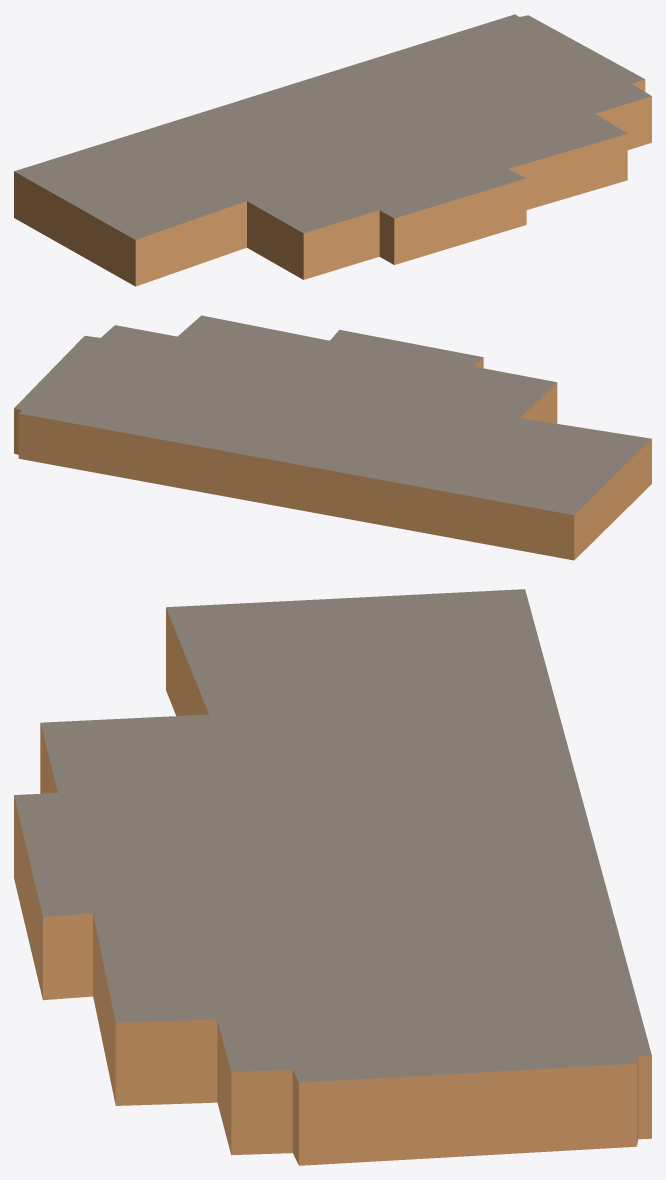
The model's file is shopping 1.fbx.
3 renders of one model, top to bottom at view 1: azimuth 30°, elevation 25°; view 2: azimuth 150°, elevation 25°; view 3: azimuth 270°, elevation 25°, orthographic. The views are drawn at different scales.
Parts seen in each view (by area): view 1: Shopping; view 2: Shopping; view 3: Shopping.
Boxes of the visible parts, left/top/right/bottom form: Shopping: left=14, top=14, right=651, bottom=286; Shopping: left=14, top=315, right=651, bottom=560; Shopping: left=14, top=589, right=651, bottom=1165.
Bounding box in the file's own units: 232 × 18.18 × 127.
